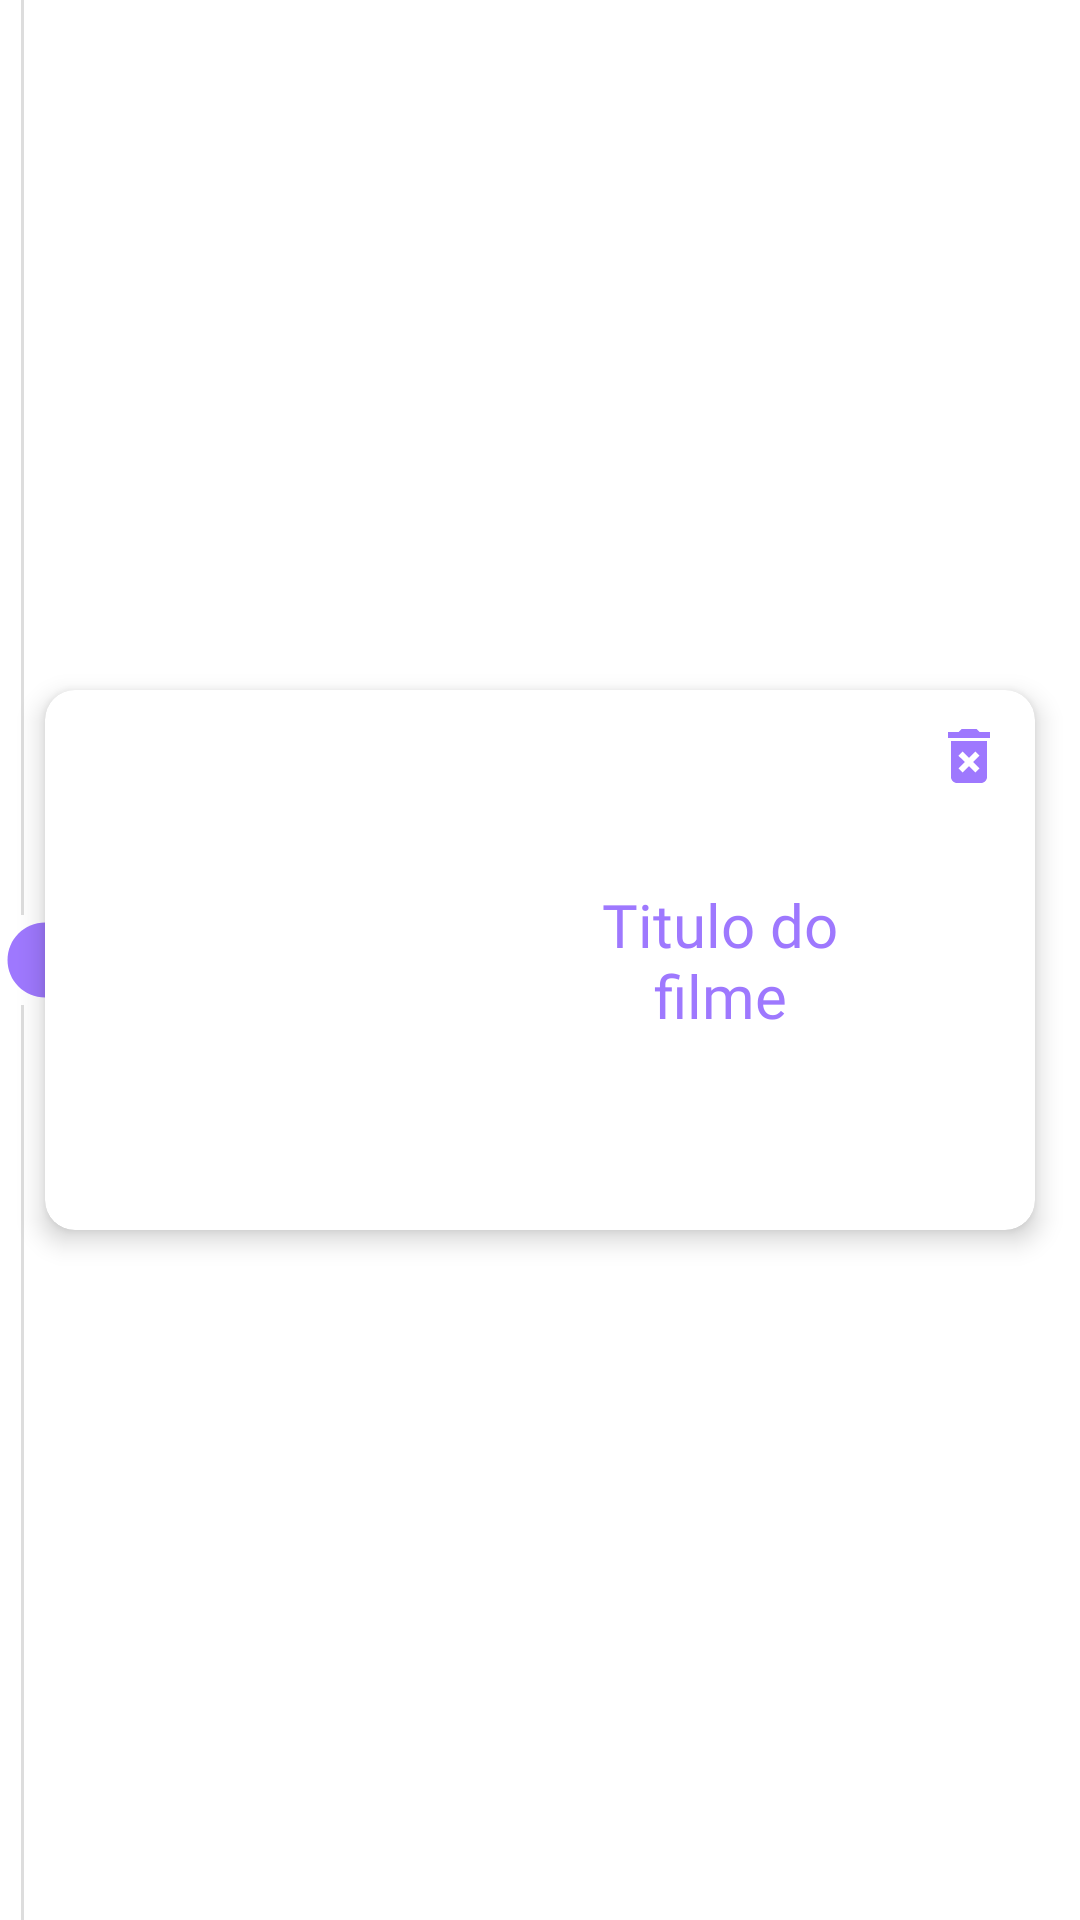

Icons on this 1080*1920 Android screen, each with its box as {"left": x1, "top": y1, "right": x2, "bottom": y2}:
delete forever: {"left": 948, "top": 729, "right": 990, "bottom": 783}
